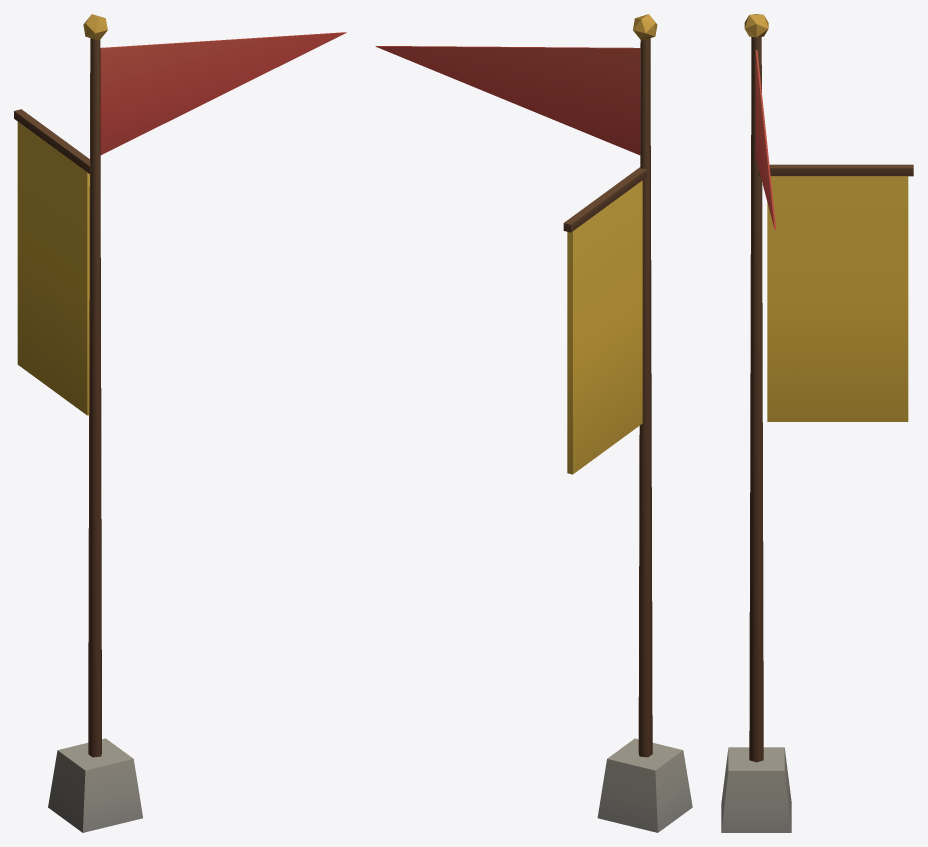
File: banner_pole.glb
The picture shows the model from 3 angles, left to right: view 1: azimuth 30°, elevation 25°; view 2: azimuth 150°, elevation 25°; view 3: azimuth 270°, elevation 25°; orthographic projection.
Parts seen in each view (by area): view 1: banner_pole; view 2: banner_pole; view 3: banner_pole.
Boxes of the visible parts, x1,y1,x2,y2 form: banner_pole: (14, 14, 346, 832); banner_pole: (375, 14, 692, 832); banner_pole: (721, 14, 913, 832).
Size of the model in its own units: 6.25 by 16.37 by 3.55.
1 material, 1 textured.
